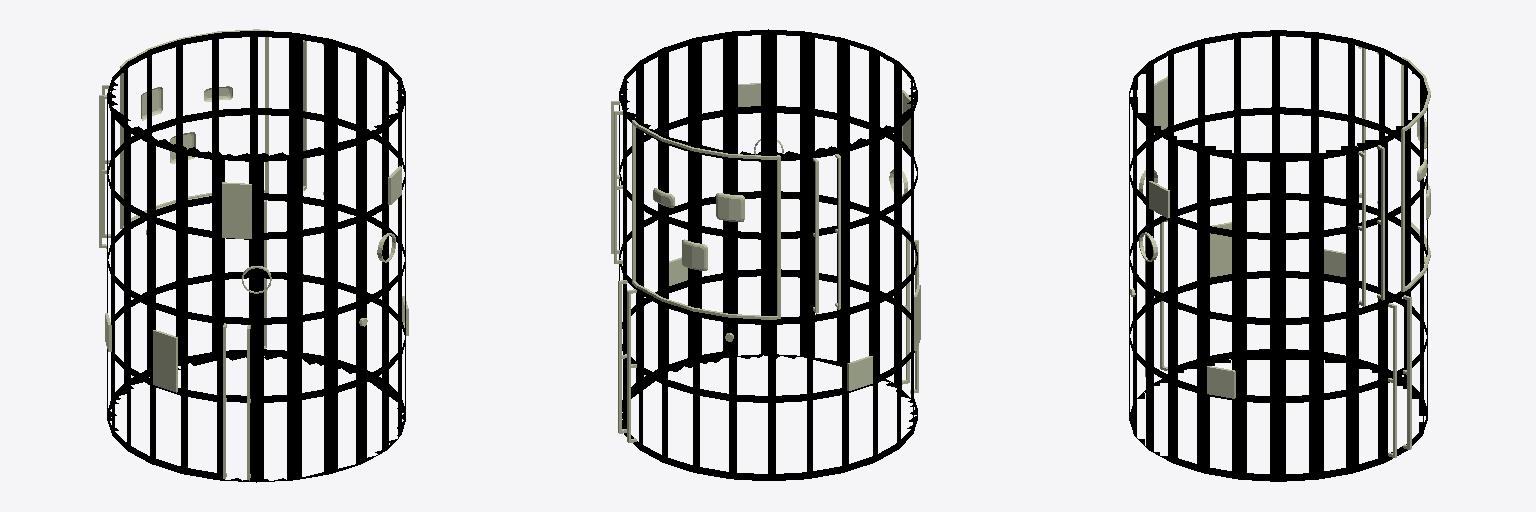
The picture shows the model from 3 angles: view 1: azimuth 30°, elevation 25°; view 2: azimuth 150°, elevation 25°; view 3: azimuth 270°, elevation 25°; orthographic projection.
Visible parts, largest first — view 1: tucana_crew_s2_2_interior, tucana_crew_s2_2_mask; view 2: tucana_crew_s2_2_interior, tucana_crew_s2_2_mask; view 3: tucana_crew_s2_2_interior, tucana_crew_s2_2_mask.
Boxes of the visible parts, x1=… form: tucana_crew_s2_2_interior: x1=107, y1=31, x2=405, y2=482; tucana_crew_s2_2_mask: x1=99, y1=29, x2=408, y2=480; tucana_crew_s2_2_interior: x1=619, y1=29, x2=917, y2=480; tucana_crew_s2_2_mask: x1=611, y1=83, x2=920, y2=442; tucana_crew_s2_2_interior: x1=1129, y1=30, x2=1427, y2=481; tucana_crew_s2_2_mask: x1=1130, y1=46, x2=1430, y2=457.
Bounding box in the file's own units: 2.5 × 3 × 2.52.
2 materials, 1 textured.